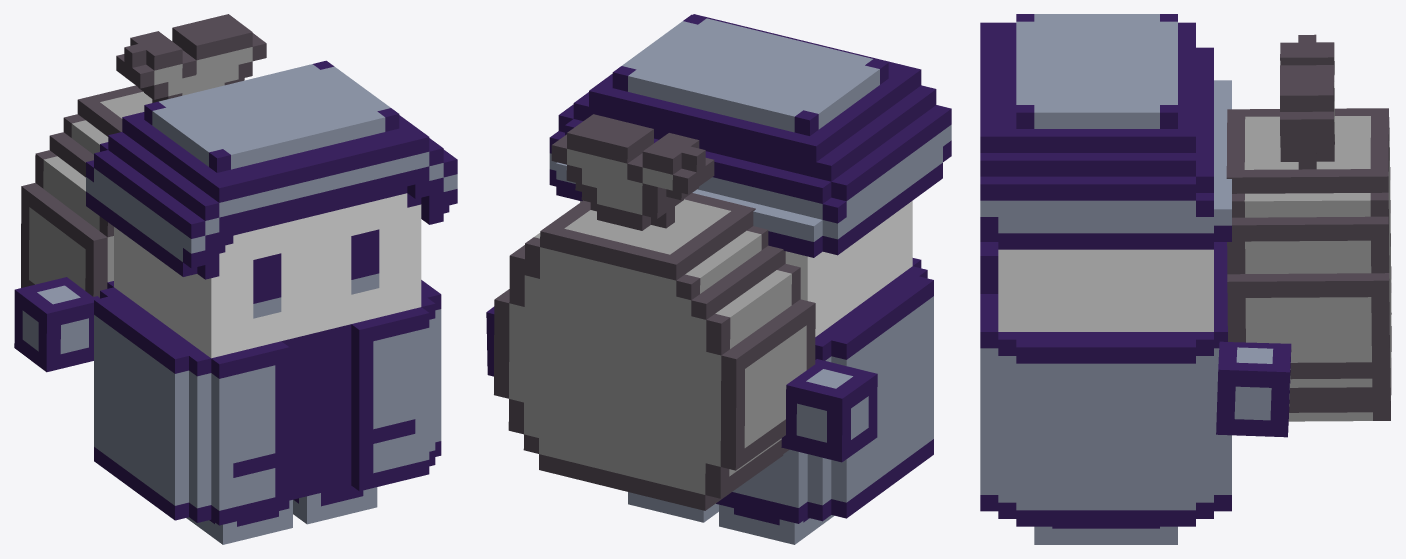
Rendered from p3TrashDizzy.gltf.
3 renders of one model, left to right at view 1: azimuth 30°, elevation 25°; view 2: azimuth 150°, elevation 25°; view 3: azimuth 270°, elevation 25°, orthographic. The views are drawn at different scales.
Visible parts, largest first — view 1: Yup2Zup.001; view 2: Yup2Zup.001; view 3: Yup2Zup.001.
Boxes of the visible parts, x1=… form: Yup2Zup.001: x1=14, y1=14, x2=457, y2=544; Yup2Zup.001: x1=486, y1=14, x2=951, y2=544; Yup2Zup.001: x1=980, y1=14, x2=1391, y2=544.
Size of the model in its own units: 2.35 by 2.71 by 2.29.
4 materials, 4 textured.
